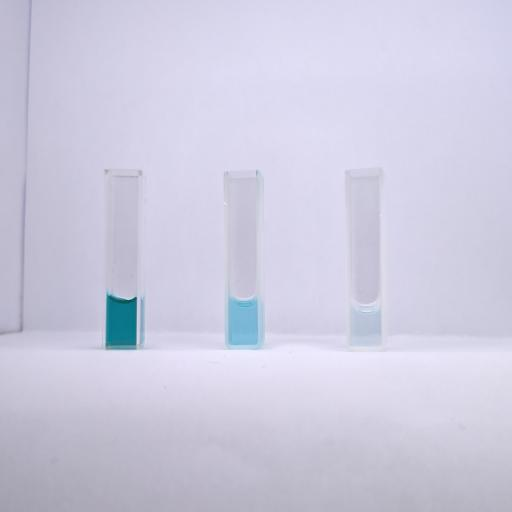cuvette: (344, 166, 387, 352), (101, 168, 144, 350), (222, 168, 262, 350)
liquid: (106, 297, 137, 346), (351, 302, 382, 346), (229, 298, 257, 344)
